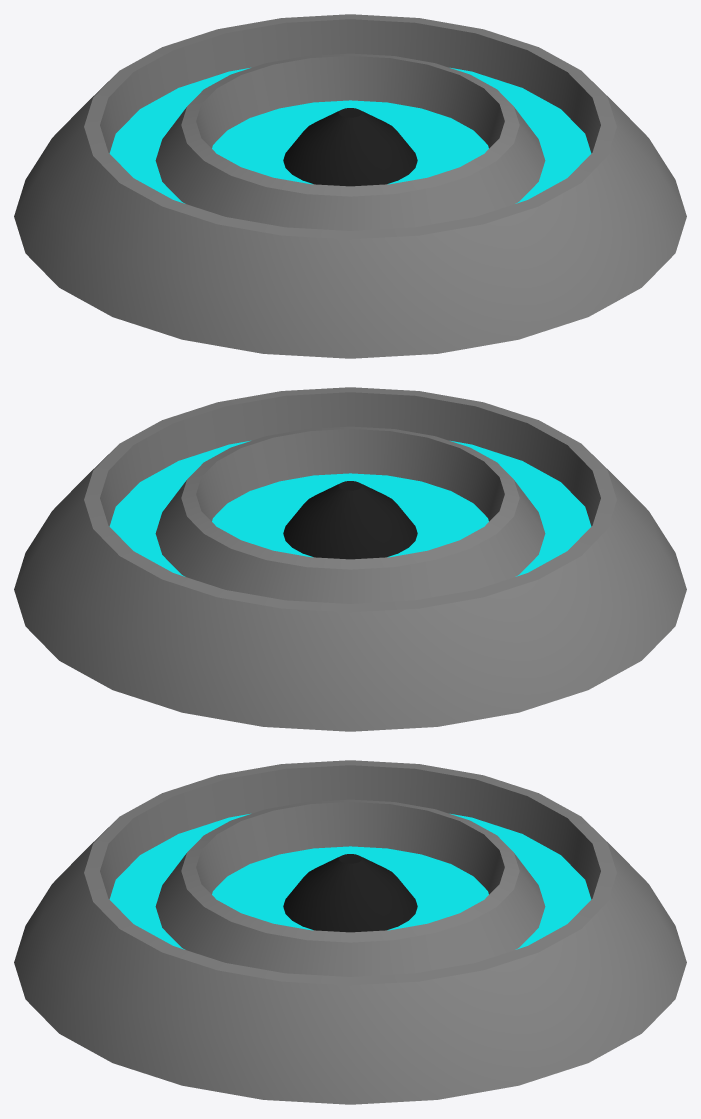
Rendered from Module_017.fbx.
3 views of the same model, one above another, from view 1: azimuth 30°, elevation 25°; view 2: azimuth 150°, elevation 25°; view 3: azimuth 270°, elevation 25° (orthographic).
Visible parts, largest first — view 1: Module_017; view 2: Module_017; view 3: Module_017.
Boxes of the visible parts, bbox=[...] form: Module_017: bbox=[14, 14, 686, 358]; Module_017: bbox=[14, 387, 686, 731]; Module_017: bbox=[14, 760, 686, 1104].
Size of the model in its own units: 163 by 30.4 by 163.
